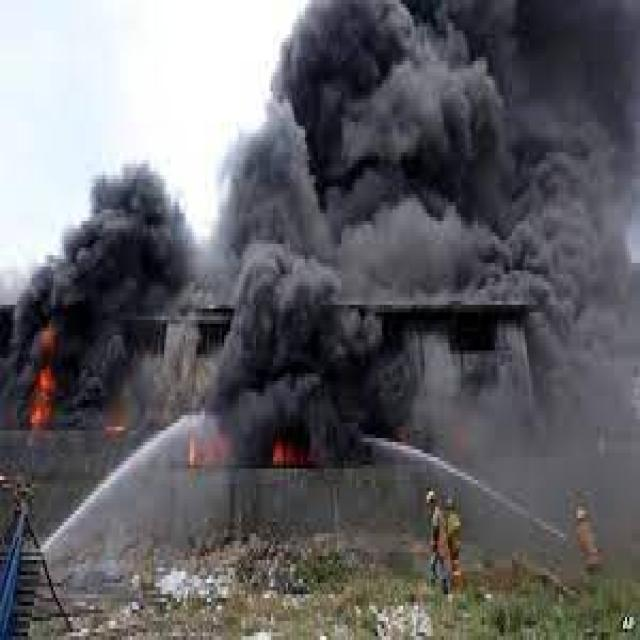Fire: (29, 335, 72, 439), (257, 430, 320, 486)
Smoke: (219, 0, 640, 457), (20, 173, 178, 361)
